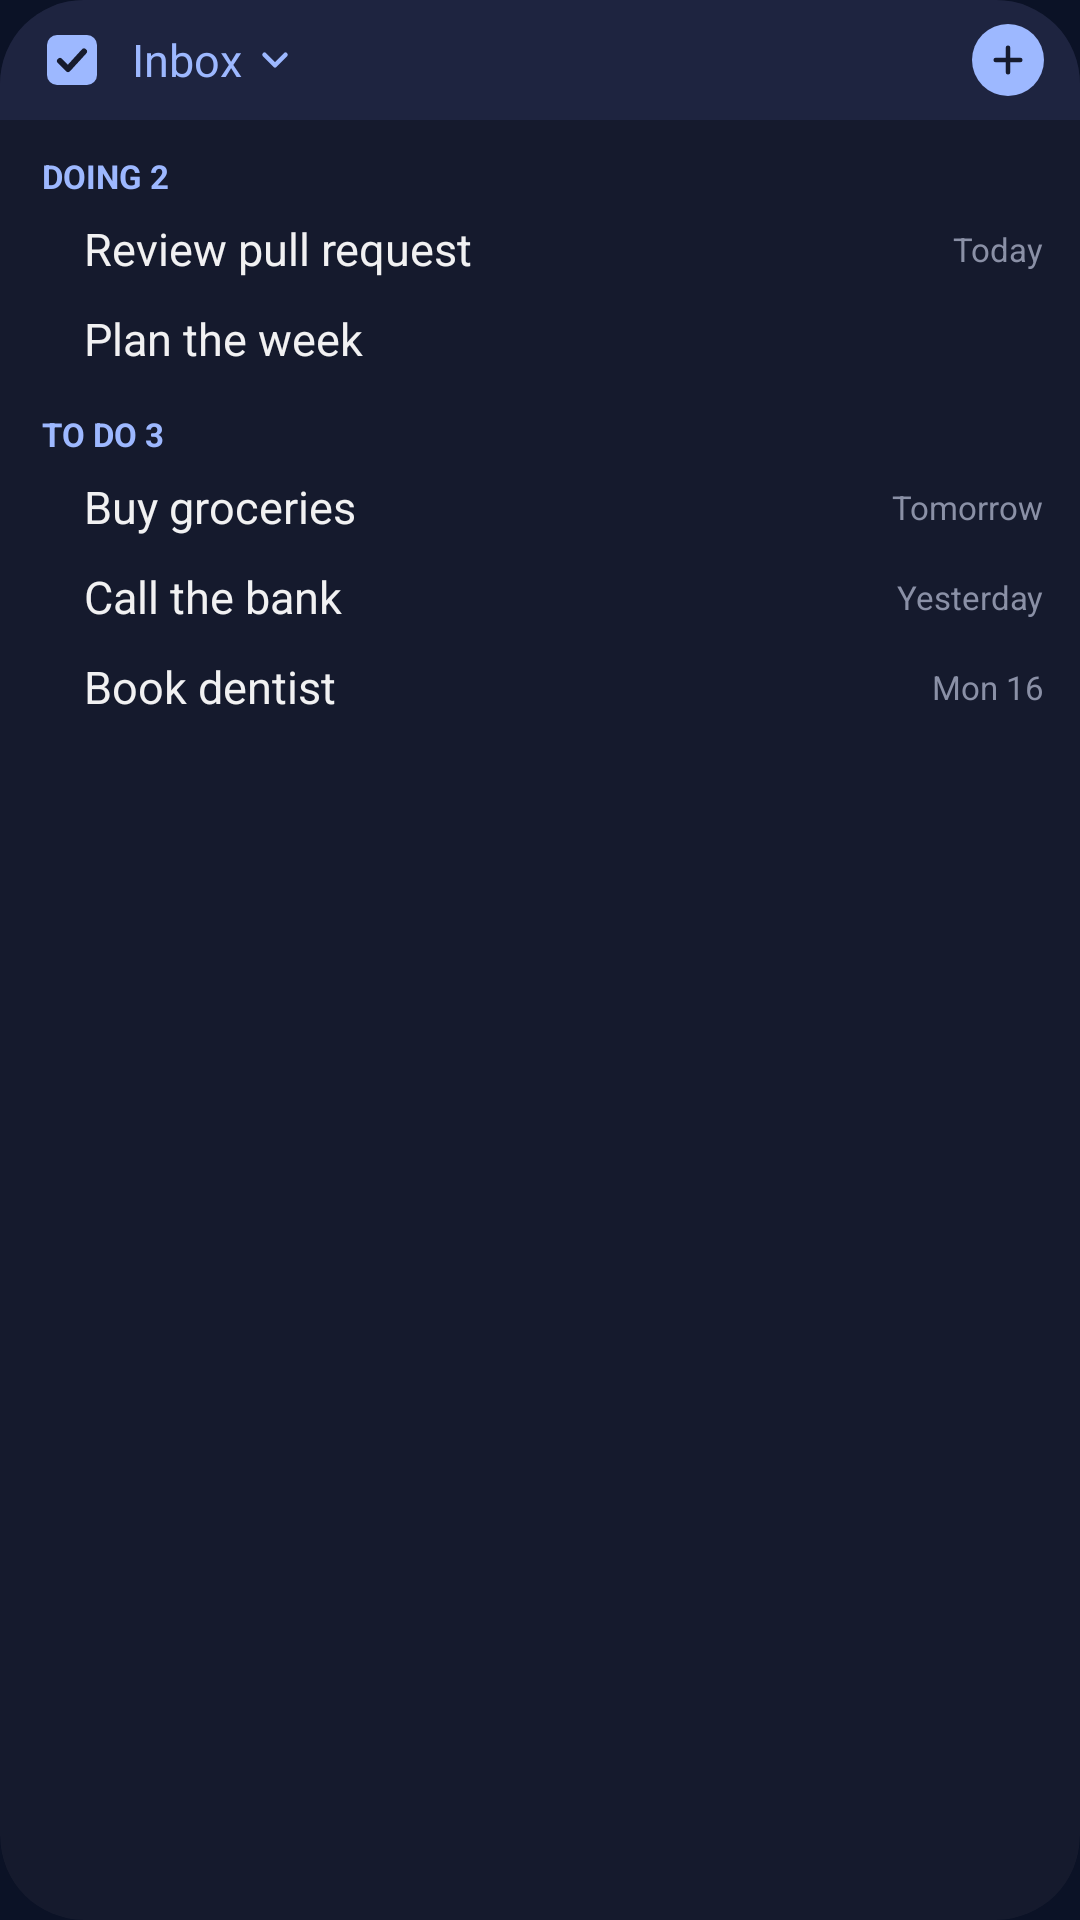

Icon bounding boxes for this 1080*1920 phone screenshot, format (x1, y1, x2, y2):
widget add: (972, 24, 1044, 96)
widget chevron: (262, 52, 288, 68)
